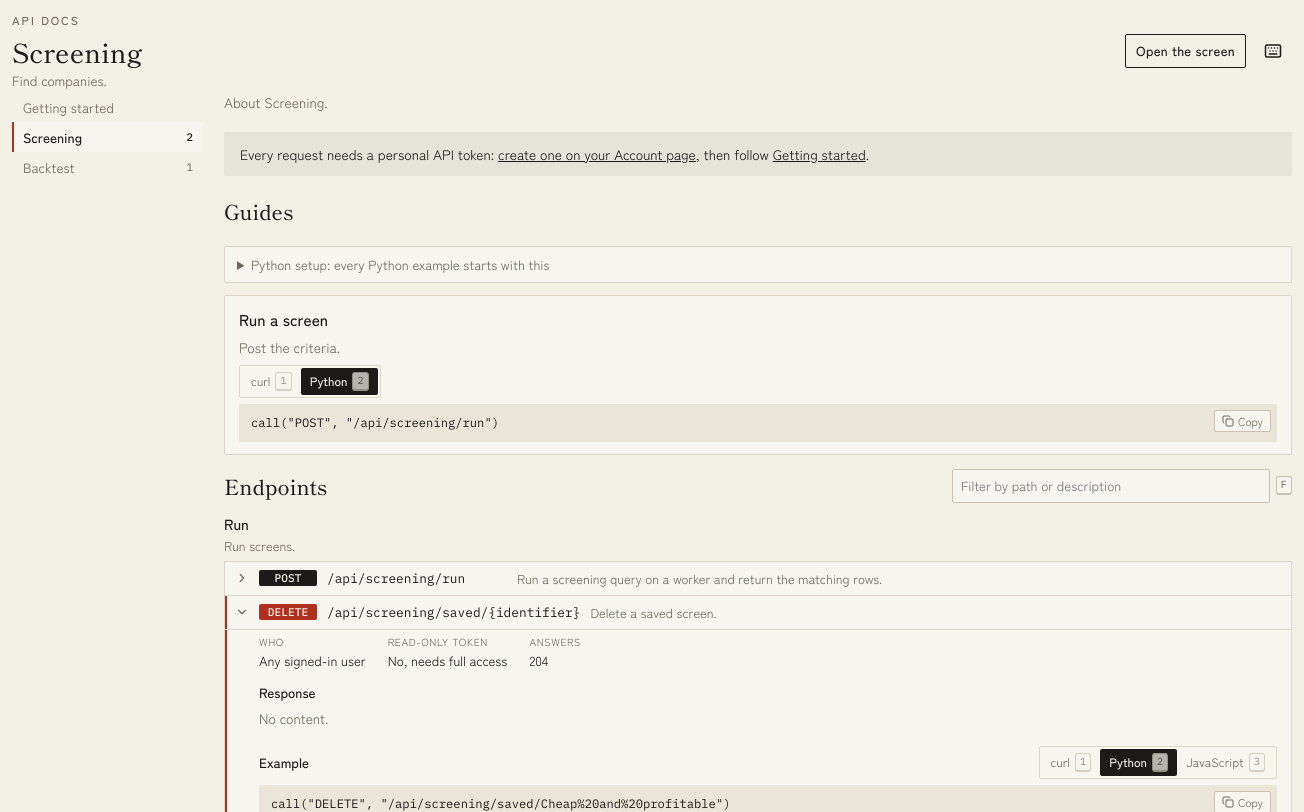
Test: ApiDocsPage › filters the endpoints and opens one named in the address
Type "price" into the search field with placeholder "Filter by path or description" at (1111, 486), box top-left (952, 469), bottom-right (1270, 503)
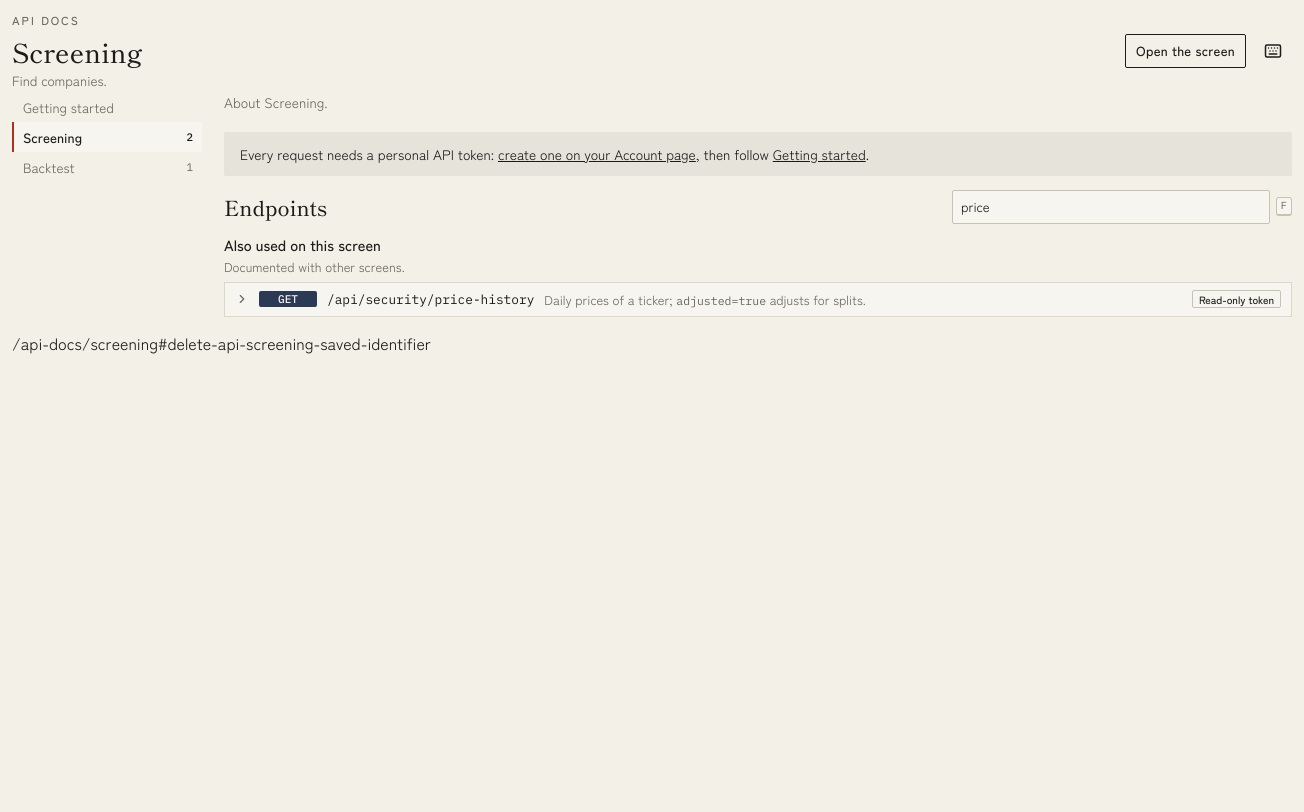
Expected: the button "GET /api/security/price-history" is shown, top-left (225, 283), bottom-right (1291, 316)
Expected: the button "POST /api/screening/run" is gone
Expected: the heading "Run a screen" is gone
Replace the text in the search field with placeholder "Filter by path or description" with "zzz" at (1111, 207), box top-left (952, 190), bottom-right (1270, 224)
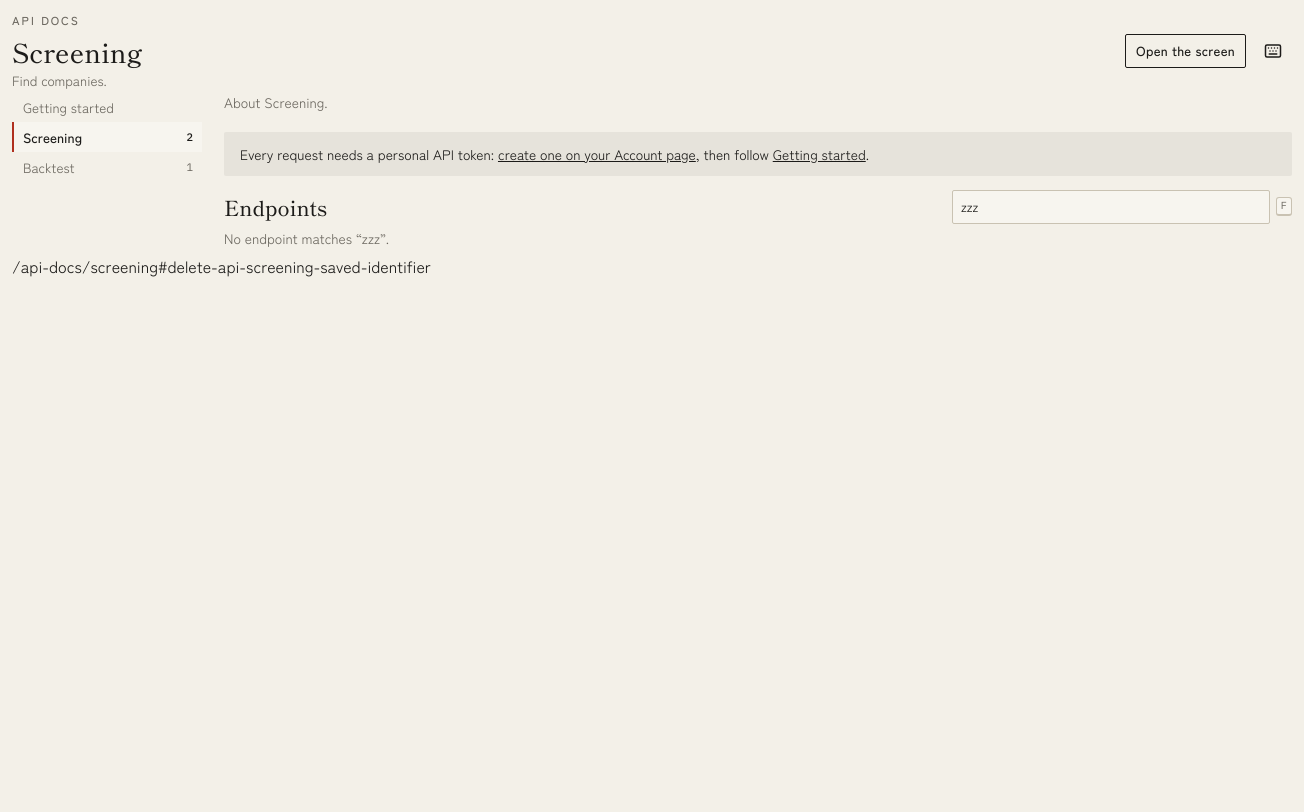
Expected: the text "No endpoint matches “zzz”." is shown, top-left (224, 228), bottom-right (389, 248)
